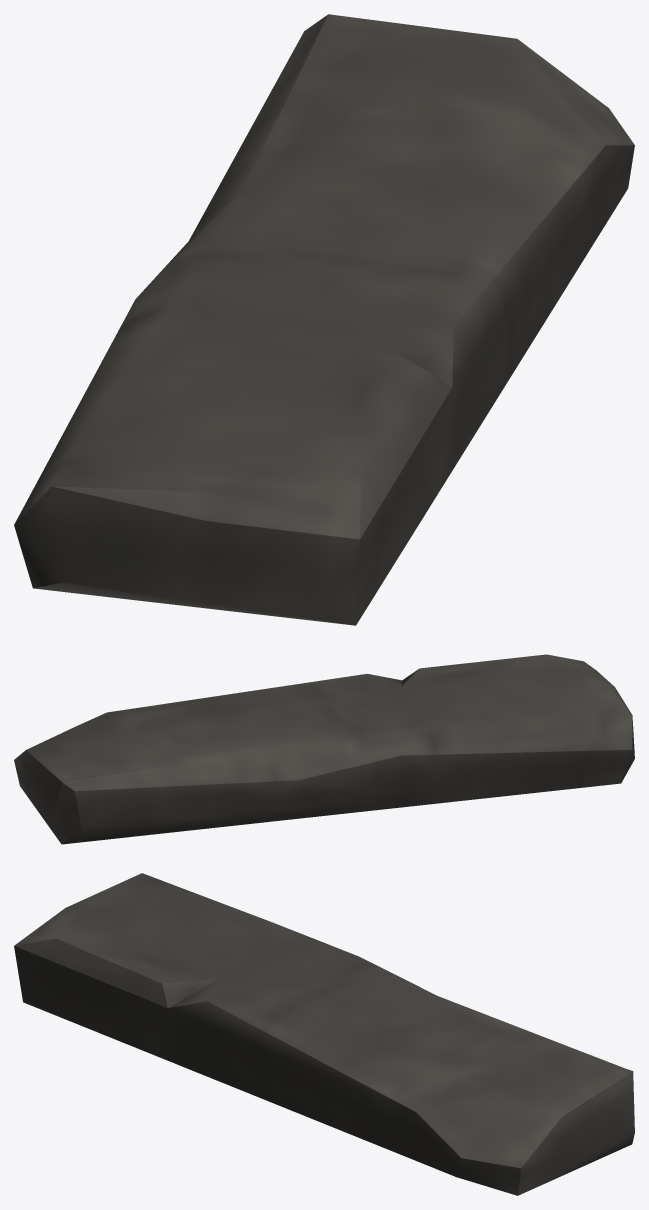
File: Stair_el1.fbx
3 views of the same model, one above another, from view 1: azimuth 30°, elevation 25°; view 2: azimuth 150°, elevation 25°; view 3: azimuth 270°, elevation 25° (orthographic). The views are drawn at different scales.
Parts seen in each view (by area): view 1: Stair_el1; view 2: Stair_el1; view 3: Stair_el1.
Boxes of the visible parts, bbox=[...] form: Stair_el1: bbox=[14, 14, 634, 625]; Stair_el1: bbox=[14, 654, 634, 844]; Stair_el1: bbox=[14, 873, 634, 1195].
Bounding box in the file's own units: 289 × 40.76 × 291.
Materials: 1 (1 with a texture image).
